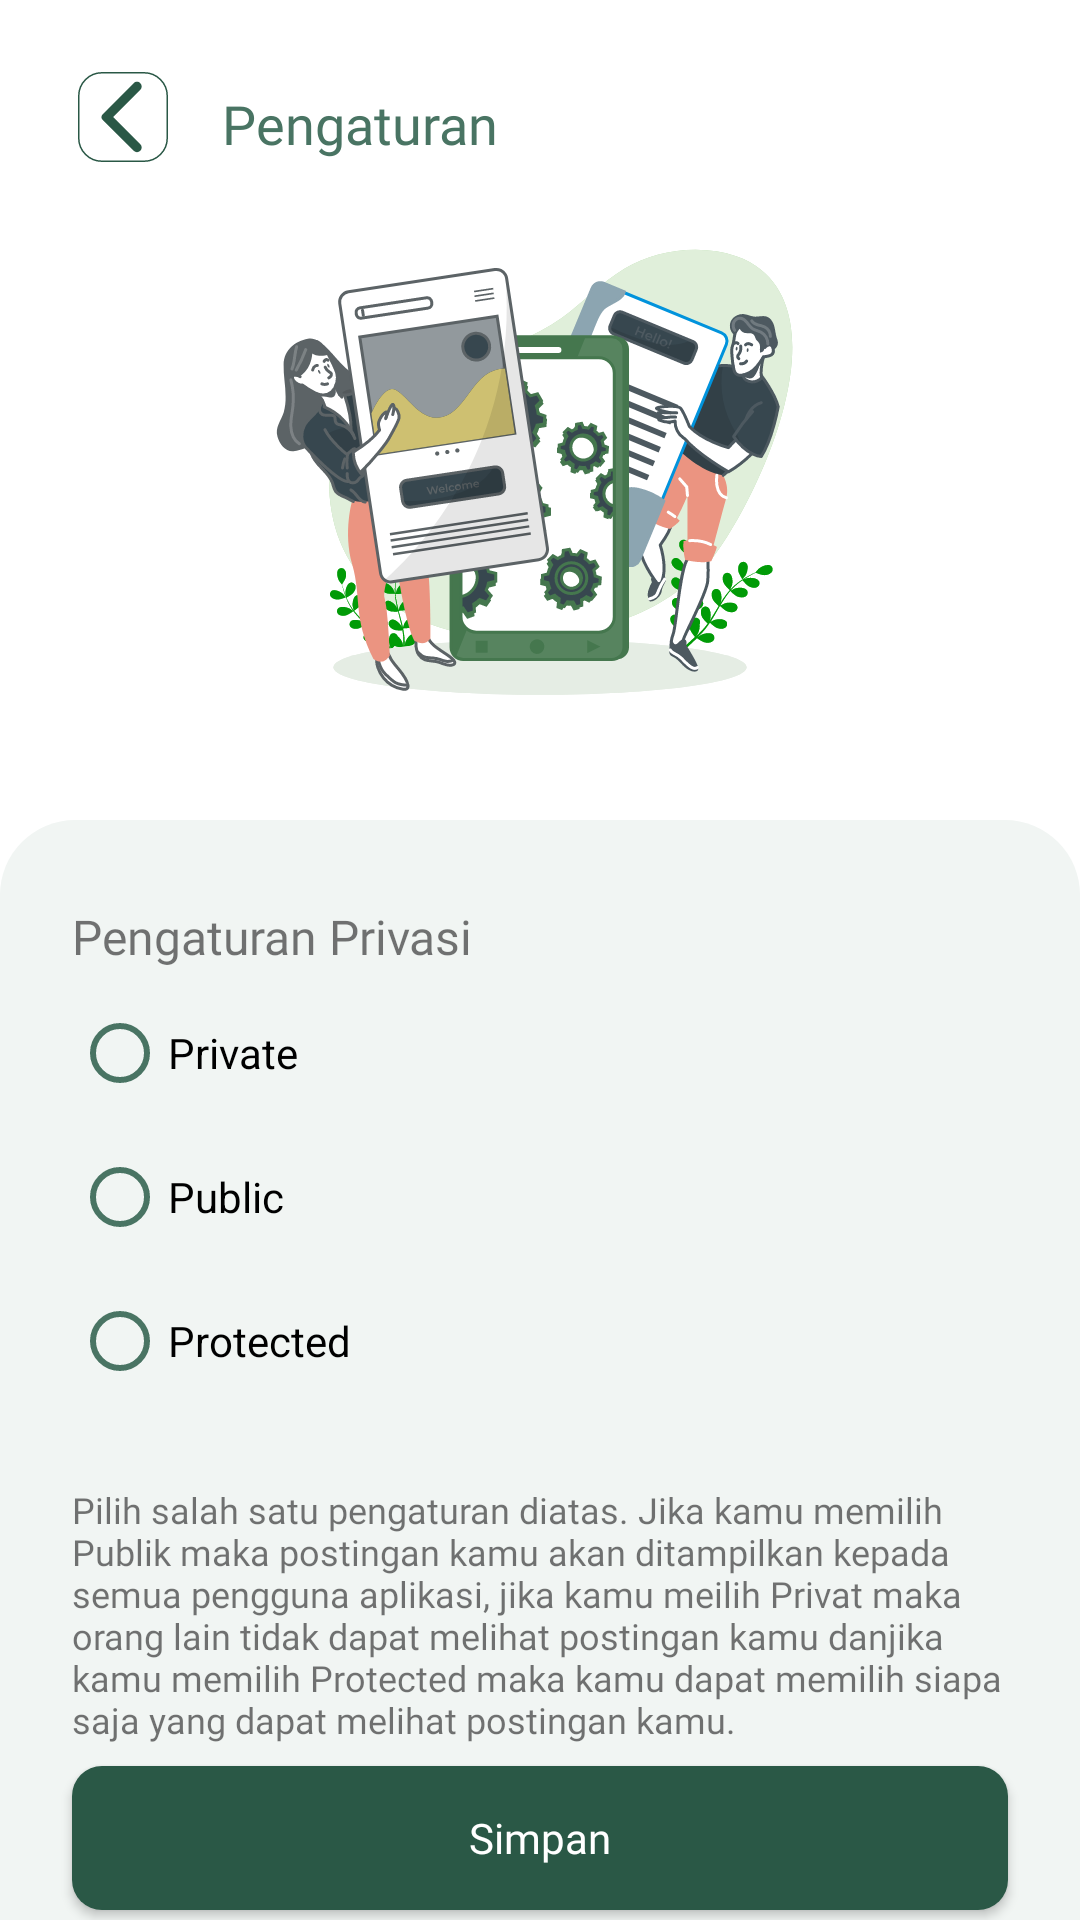

Icons on this 1080×1920 Android screen, each with its box as bbox=(x1, y1, x2, y2):
back: bbox=(78, 72, 168, 162)
